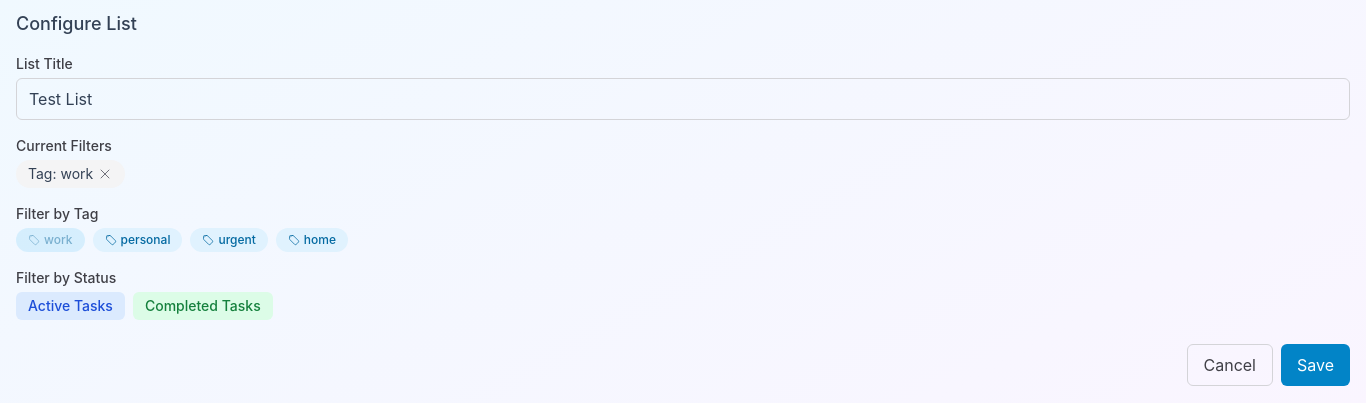
Test: TaskListConfig Component › adds a completion filter for completed tasks
This screenshot has width=1366, height=403.
# Click on the completed tasks filter button
Step 1. Click the button with test id "completed-tasks-filter" → (203, 306), box [133,292,273,320]
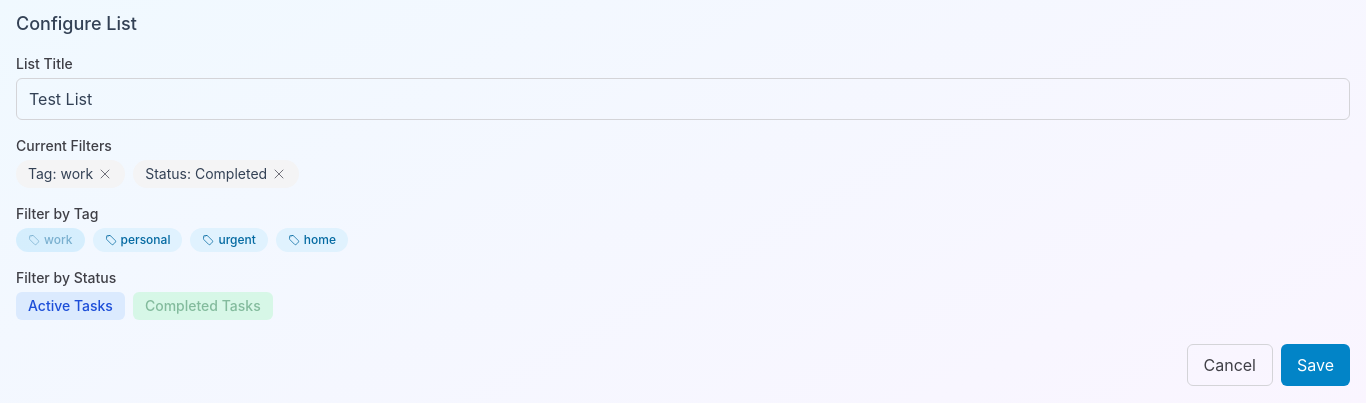
Expected: the text "Status: Completed" is shown, [145,164,267,184]
